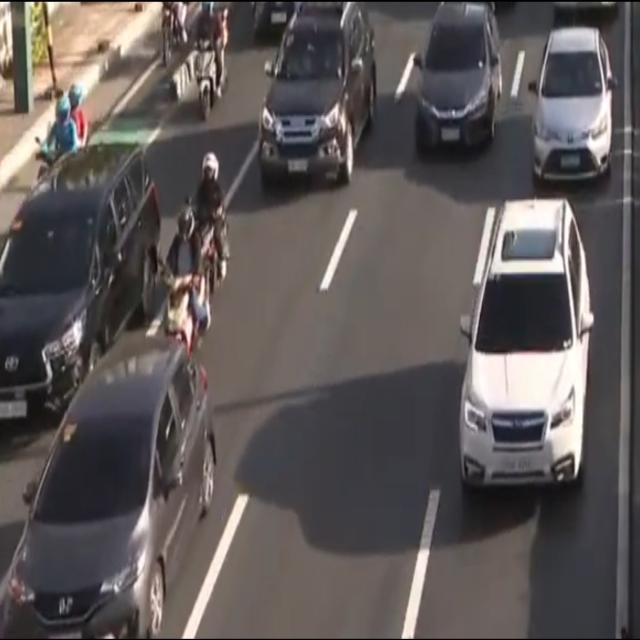Motorcycle: (158, 199, 208, 356), (190, 148, 230, 307), (34, 77, 86, 189), (193, 0, 233, 118)
SUV: (7, 334, 217, 640), (0, 144, 160, 423), (456, 200, 592, 491), (257, 0, 375, 179)
Sedan: (526, 20, 620, 186), (413, 6, 502, 151)
